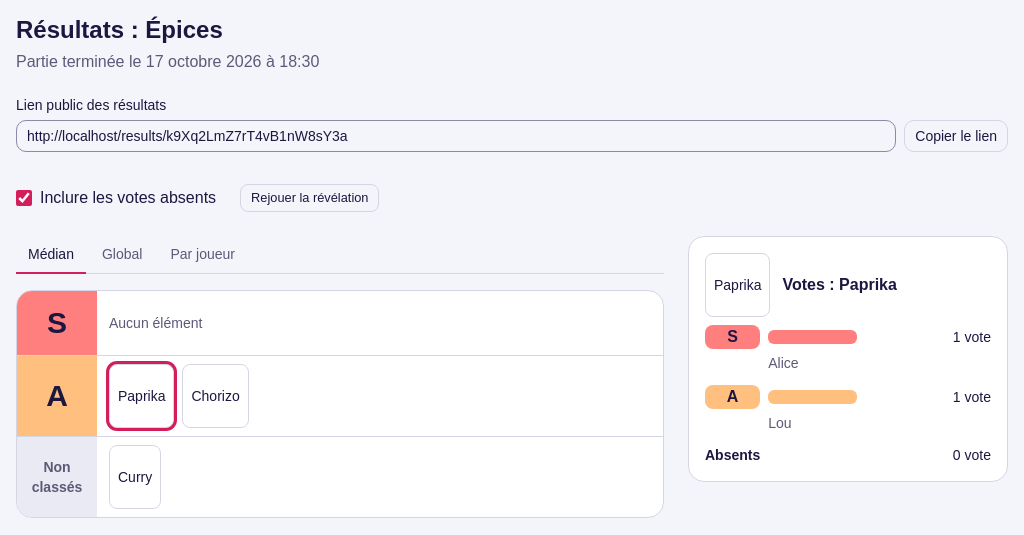
Test: ResultsPage › shows the distribution of every item in a table
This screenshot has width=1024, height=535.
Click the tab "Global" at (122, 255), box [90,236,154,274]
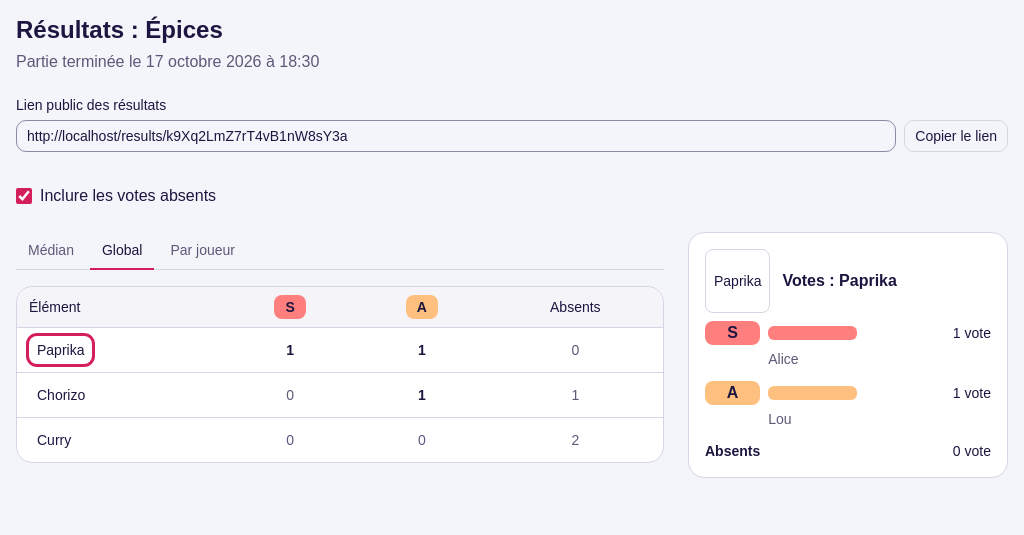
Check: the column headings read "Élément", "S", "A", "Absents", in this order, box [17,287,224,328]; [224,287,356,328]; [356,287,488,328]; [488,287,663,328]
Check: the cells read "0", "1", "1", in this order, box [224,372,356,418]; [356,372,488,418]; [488,372,663,418]
